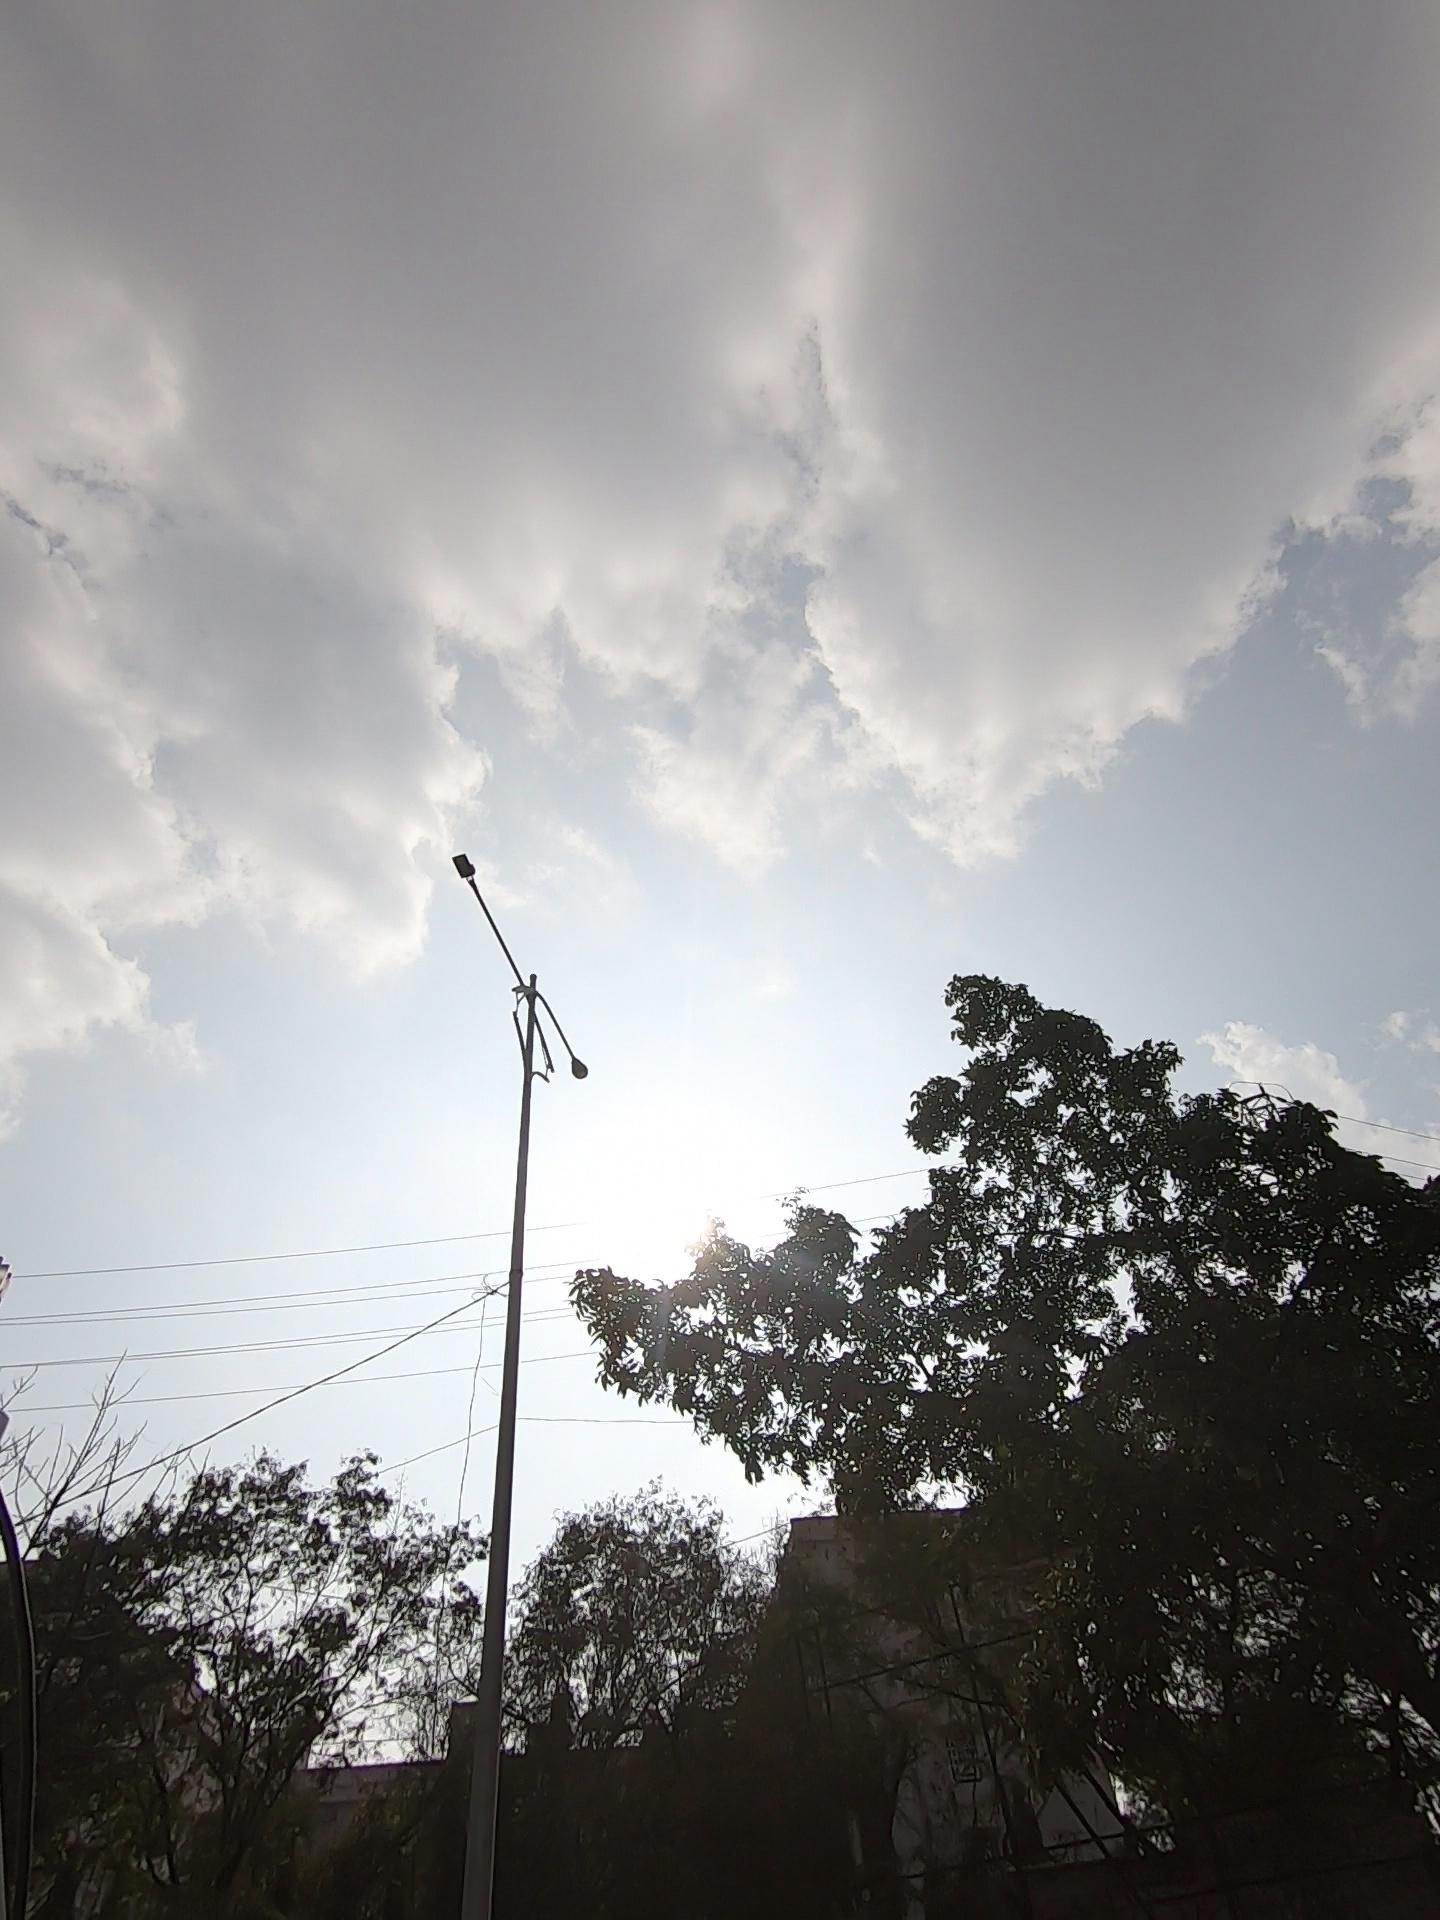off: (440, 760, 703, 1276)
